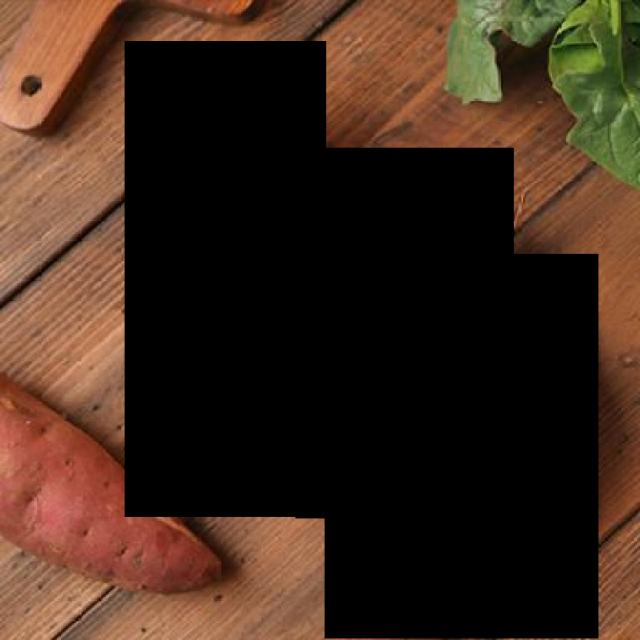Sweet_Potato: (324, 254, 598, 638), (125, 40, 326, 517), (295, 147, 514, 518)
